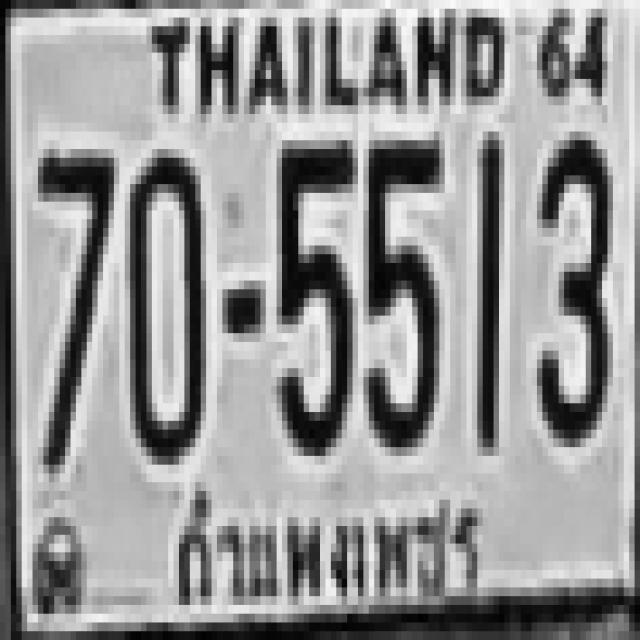0: (124, 149, 200, 456)
1: (472, 132, 499, 447)
3: (532, 132, 608, 438)
5: (274, 132, 350, 447), (364, 132, 439, 447)
7: (35, 149, 111, 465)
KamphaengPhet: (158, 469, 494, 631)
